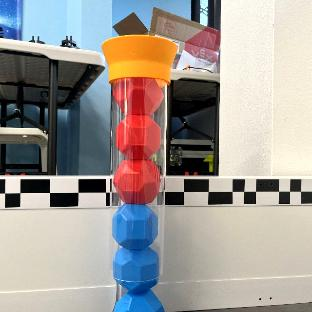Loader: (103, 33, 177, 312)
V5_BLUE: (113, 246, 158, 291), (112, 204, 158, 247), (113, 289, 163, 312)
V5_RED: (112, 76, 164, 116), (114, 158, 159, 203), (115, 114, 162, 157)
